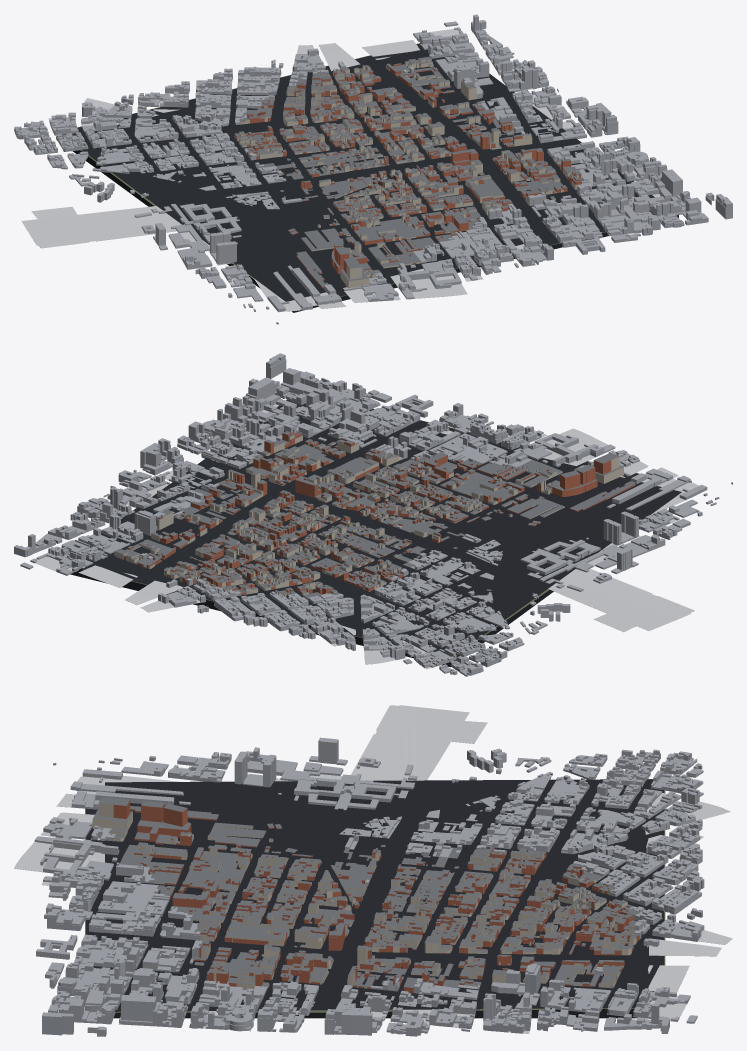
The model's file is maqueta_grupal_antes.glb.
3 views of the same model, one above another, from view 1: azimuth 30°, elevation 25°; view 2: azimuth 150°, elevation 25°; view 3: azimuth 270°, elevation 25° (orthographic). The views are drawn at different scales.
Visible parts, largest first — view 1: Antes_Asfalto_Base, Antes_Contexto_Ciudad_A, Antes_Contexto_Ciudad_B, Antes_Edificios_Poligonos_B, Antes_Edificios_Poligonos_A, Antes_Manzanas_Andenes, Base_Territorio_Plinto; view 2: Antes_Contexto_Ciudad_A, Antes_Asfalto_Base, Antes_Contexto_Ciudad_B, Antes_Edificios_Poligonos_A, Antes_Edificios_Poligonos_B, Antes_Manzanas_Andenes, Base_Territorio_Plinto; view 3: Antes_Asfalto_Base, Antes_Contexto_Ciudad_A, Antes_Contexto_Ciudad_B, Antes_Edificios_Poligonos_A, Antes_Edificios_Poligonos_B, Antes_Manzanas_Andenes, Base_Territorio_Plinto.
Part boxes in pixels (x1,y1,x2,y2): Antes_Asfalto_Base: (62, 43, 654, 301); Antes_Contexto_Ciudad_A: (15, 14, 728, 324); Antes_Contexto_Ciudad_B: (14, 25, 732, 312); Antes_Edificios_Poligonos_B: (236, 56, 583, 287); Antes_Edificios_Poligonos_A: (234, 59, 581, 288); Antes_Manzanas_Andenes: (21, 29, 660, 311); Base_Territorio_Plinto: (72, 43, 678, 312); Antes_Contexto_Ciudad_A: (14, 357, 732, 674); Antes_Asfalto_Base: (68, 399, 681, 654); Antes_Contexto_Ciudad_B: (27, 353, 716, 676); Antes_Edificios_Poligonos_A: (123, 430, 635, 597); Antes_Edificios_Poligonos_B: (114, 429, 623, 599); Antes_Manzanas_Andenes: (35, 404, 706, 669); Base_Territorio_Plinto: (70, 400, 666, 667); Antes_Asfalto_Base: (86, 779, 664, 1011); Antes_Contexto_Ciudad_A: (34, 737, 704, 1036); Antes_Contexto_Ciudad_B: (36, 749, 704, 1036); Antes_Edificios_Poligonos_A: (113, 798, 639, 993); Antes_Edificios_Poligonos_B: (92, 796, 640, 990); Antes_Manzanas_Andenes: (14, 705, 732, 1033); Base_Territorio_Plinto: (85, 779, 665, 1018).
Size of the model in its own units: 1.36 by 0.0591 by 1.24.
